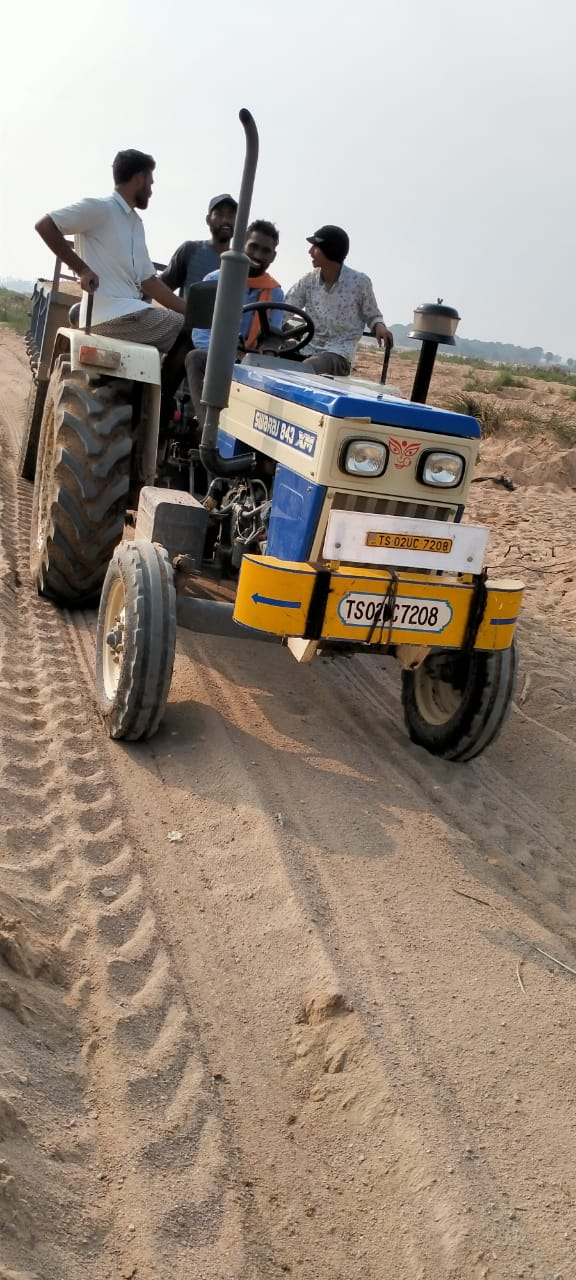license_plate: (337, 582, 467, 639)
